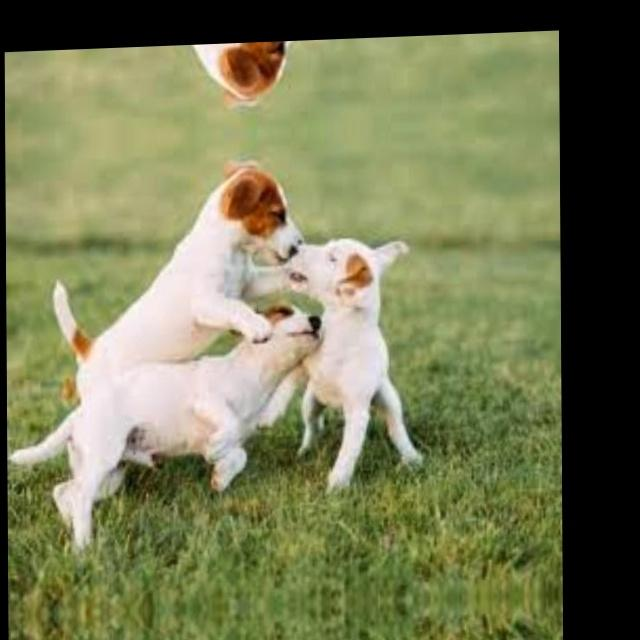dog: (286, 191, 428, 531), (285, 36, 425, 66)
